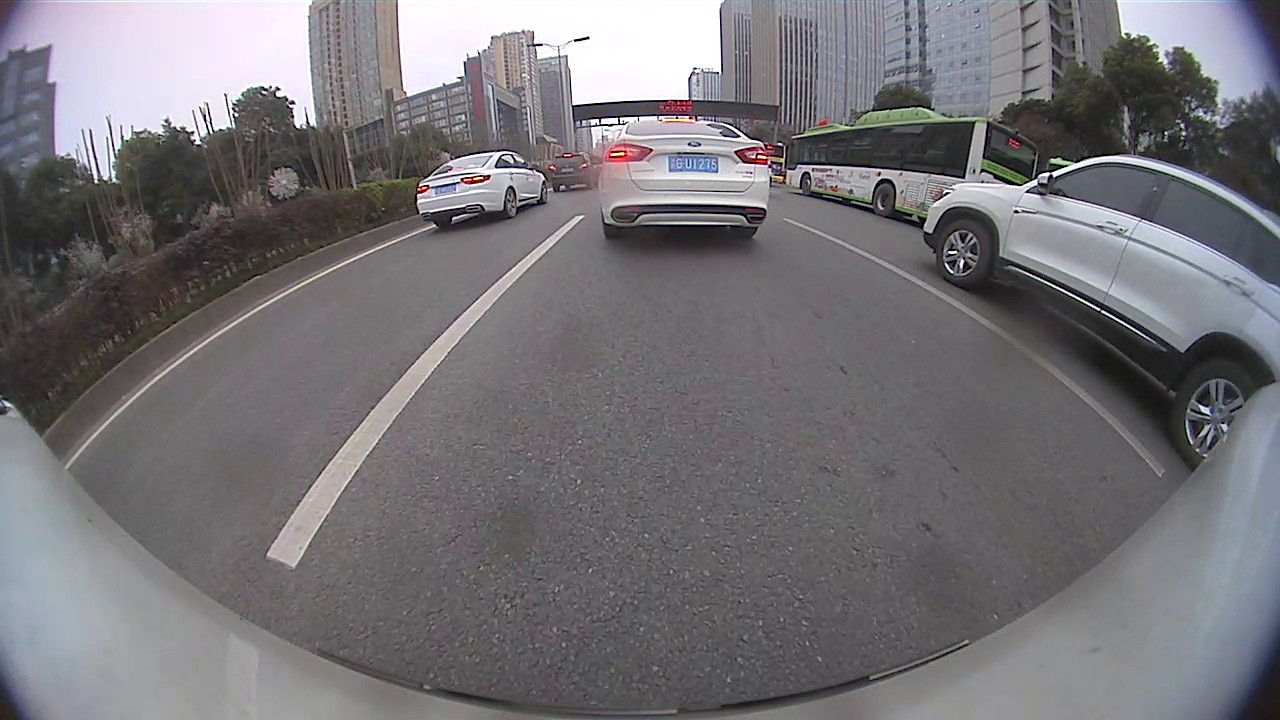bus: (786, 107, 1039, 229)
car: (923, 155, 1279, 471), (598, 119, 770, 238), (417, 151, 548, 228), (548, 151, 600, 193)
front: (933, 215, 996, 290), (799, 172, 813, 193), (541, 181, 552, 206)
rear: (1168, 360, 1261, 469), (872, 181, 896, 219), (505, 186, 519, 220)
